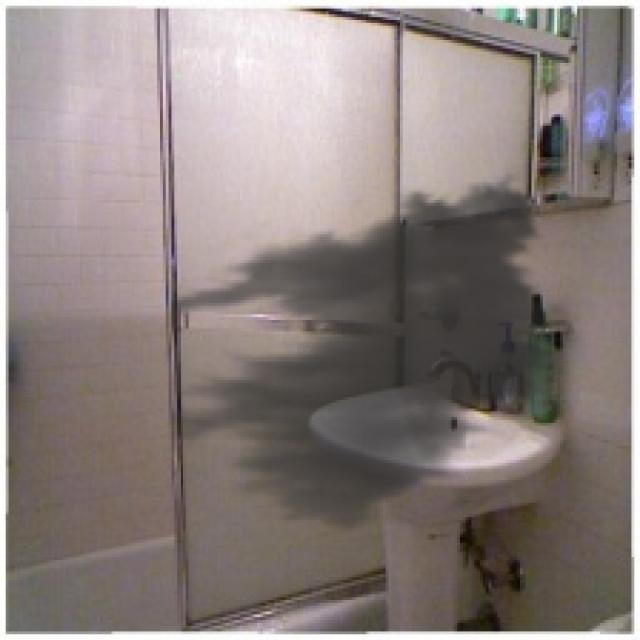smoke: (172, 163, 574, 543)
